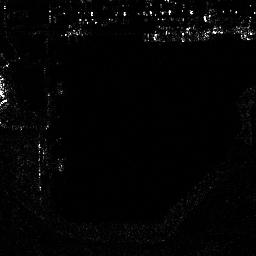ship: (144, 26, 211, 44)
